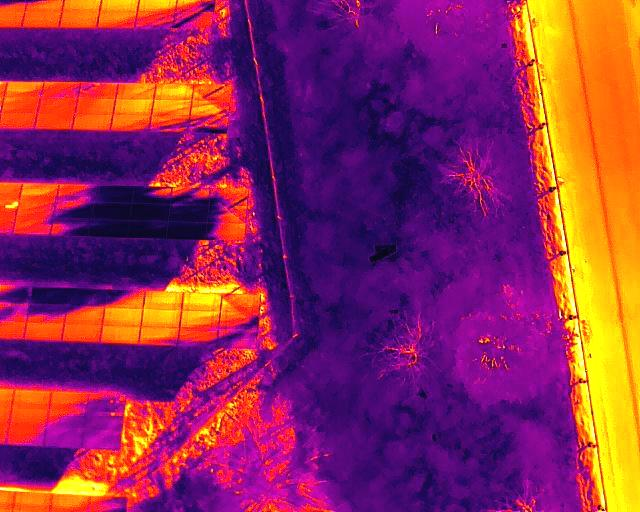No-Anomaly: (12, 493, 52, 512), (103, 308, 142, 327), (101, 325, 140, 344), (59, 8, 99, 26), (10, 407, 47, 426), (21, 9, 60, 27), (144, 292, 183, 310), (24, 321, 63, 339), (142, 309, 181, 327), (63, 325, 101, 343), (11, 391, 50, 408), (183, 294, 221, 311), (180, 311, 219, 327), (50, 495, 88, 511), (34, 114, 74, 129), (76, 98, 115, 113), (72, 113, 111, 128), (1, 96, 39, 111), (38, 97, 76, 112), (0, 112, 36, 127), (114, 99, 152, 113)
Shadowing: (168, 203, 209, 225), (89, 218, 130, 239), (208, 187, 249, 207), (205, 222, 245, 242), (168, 221, 208, 241), (129, 219, 169, 239), (94, 183, 136, 202), (92, 200, 131, 220), (44, 427, 83, 447), (131, 186, 172, 205), (130, 204, 170, 223), (208, 204, 246, 224), (66, 288, 106, 307), (27, 304, 67, 323), (65, 307, 105, 326), (105, 289, 144, 308), (46, 409, 85, 428), (86, 394, 125, 413), (140, 327, 179, 346), (7, 425, 44, 445), (82, 429, 120, 448), (56, 183, 96, 201), (217, 329, 257, 347), (20, 183, 57, 202), (96, 10, 135, 28), (135, 10, 174, 28), (28, 286, 67, 304), (50, 392, 88, 410), (179, 328, 217, 346), (173, 10, 213, 27), (53, 201, 93, 218), (40, 81, 80, 98), (52, 218, 89, 236), (220, 312, 259, 329), (84, 413, 122, 430), (221, 295, 259, 312), (193, 84, 230, 101), (190, 99, 229, 115), (14, 216, 53, 232), (190, 116, 228, 132), (4, 81, 42, 97), (79, 82, 117, 98), (155, 83, 193, 99), (117, 82, 154, 98), (152, 100, 190, 115), (112, 114, 150, 129), (90, 496, 126, 511), (151, 115, 189, 129), (19, 201, 53, 216)
